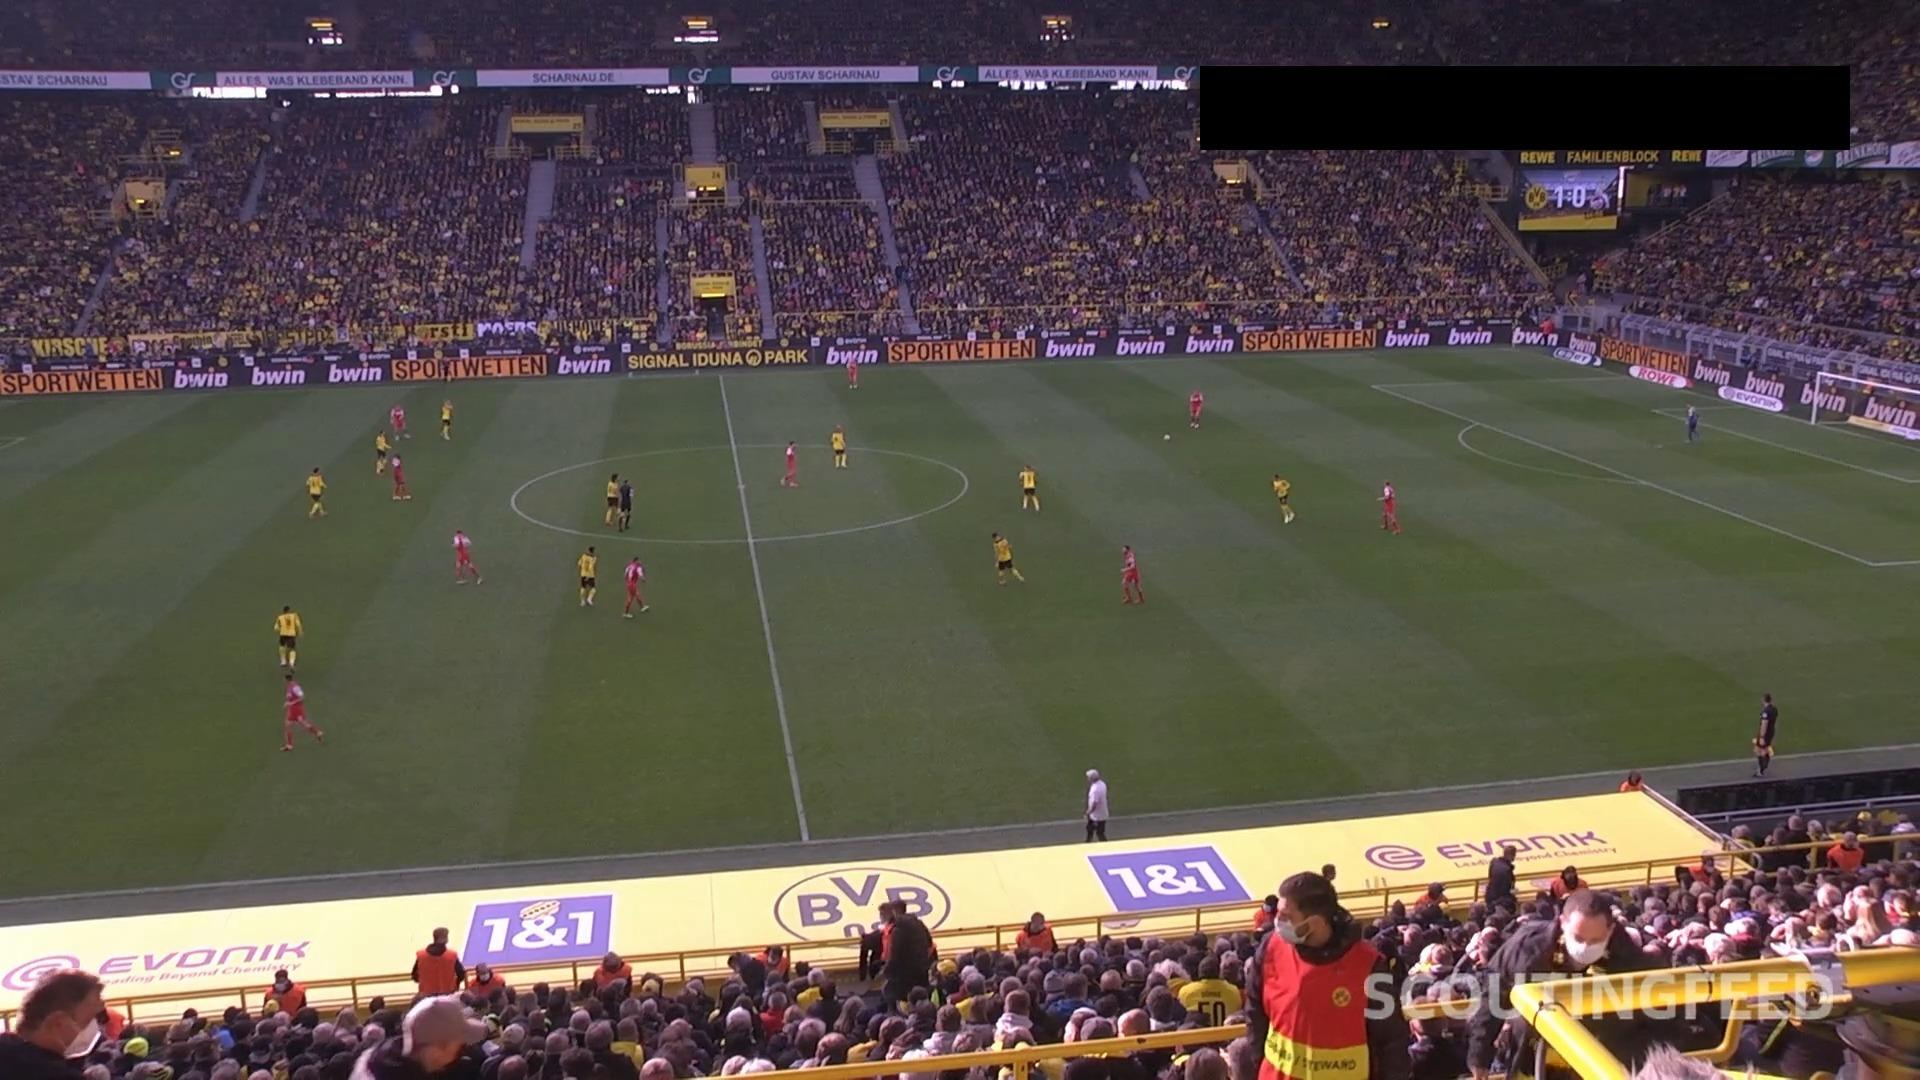ball: (1163, 433, 1171, 442)
